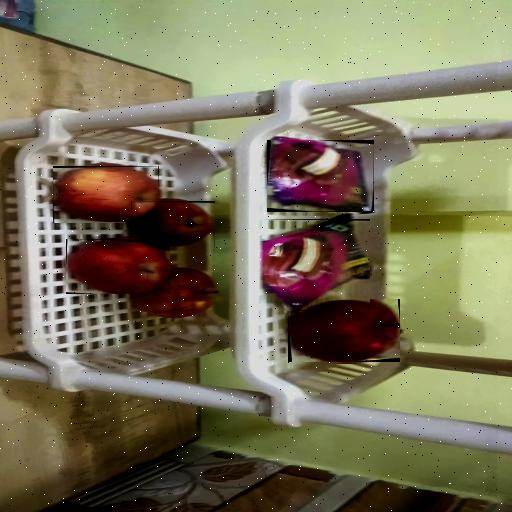Apple: (288, 300, 400, 364), (53, 166, 159, 223), (66, 239, 170, 294), (131, 201, 215, 247)
Choco Pie: (262, 219, 370, 311), (267, 140, 374, 212)
